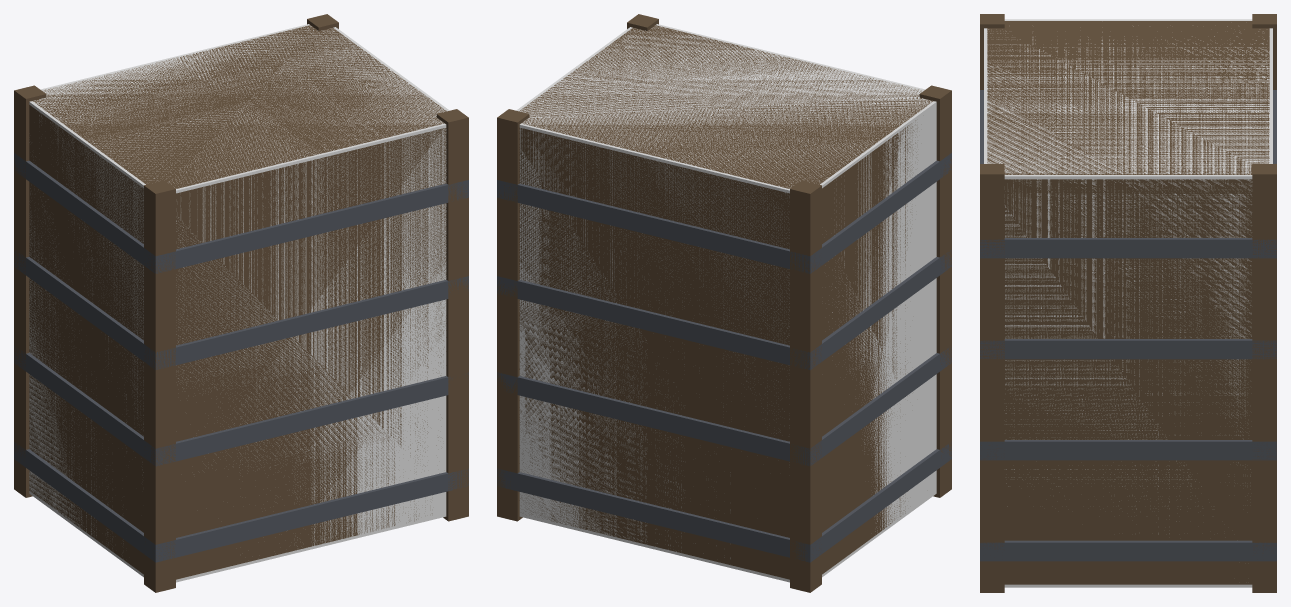
The model's file is crate_step_110.glb.
The picture shows the model from 3 angles, left to right: view 1: azimuth 30°, elevation 25°; view 2: azimuth 150°, elevation 25°; view 3: azimuth 270°, elevation 25°; orthographic projection. The views are drawn at different scales.
Parts seen in each view (by area): view 1: crate_mesh, crate_step_110-convcol; view 2: crate_mesh, crate_step_110-convcol; view 3: crate_mesh, crate_step_110-convcol.
Boxes of the visible parts, x1,y1,x2,y2 form: crate_mesh: [14, 14, 468, 592]; crate_step_110-convcol: [29, 24, 449, 582]; crate_mesh: [497, 14, 951, 592]; crate_step_110-convcol: [516, 24, 936, 582]; crate_mesh: [980, 14, 1276, 592]; crate_step_110-convcol: [984, 19, 1272, 587].
Size of the model in its own units: 0.92 by 1.12 by 0.72.
